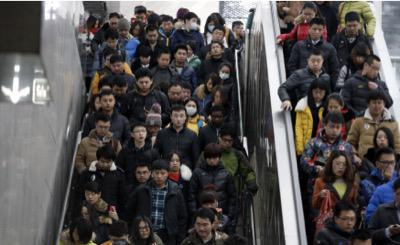with_mask: (184, 103, 197, 115), (219, 69, 230, 79), (188, 19, 197, 29), (207, 22, 215, 33)
without_mask: (194, 220, 211, 237), (338, 215, 356, 231), (325, 123, 342, 139), (380, 158, 396, 174), (332, 160, 347, 176), (369, 100, 384, 115), (219, 136, 234, 150), (171, 112, 185, 127), (375, 134, 389, 148), (308, 57, 322, 71), (309, 26, 323, 40), (153, 170, 167, 184), (133, 128, 147, 142), (168, 90, 182, 103), (136, 169, 149, 183), (85, 191, 99, 204), (72, 231, 86, 244), (367, 65, 380, 78), (101, 97, 114, 110), (96, 124, 109, 137), (138, 224, 150, 238), (98, 159, 113, 170), (312, 89, 325, 101), (211, 114, 223, 127), (138, 80, 151, 92), (169, 158, 180, 172), (346, 23, 358, 35), (175, 51, 187, 63), (158, 56, 170, 68), (302, 11, 315, 22), (206, 156, 219, 167), (327, 103, 341, 113), (202, 201, 216, 211), (110, 63, 124, 73), (212, 30, 224, 41), (113, 87, 126, 97), (211, 44, 222, 55), (181, 89, 191, 101), (147, 124, 159, 134), (162, 22, 172, 33), (147, 33, 158, 43), (214, 93, 223, 105), (106, 39, 118, 48), (355, 55, 366, 64), (140, 55, 150, 64), (206, 81, 214, 92), (109, 20, 118, 29), (94, 100, 101, 111), (136, 14, 145, 22), (81, 211, 90, 219), (238, 26, 245, 36), (133, 26, 140, 36), (119, 29, 129, 36), (212, 219, 218, 230), (186, 47, 193, 56), (105, 57, 110, 68), (92, 22, 99, 29)
